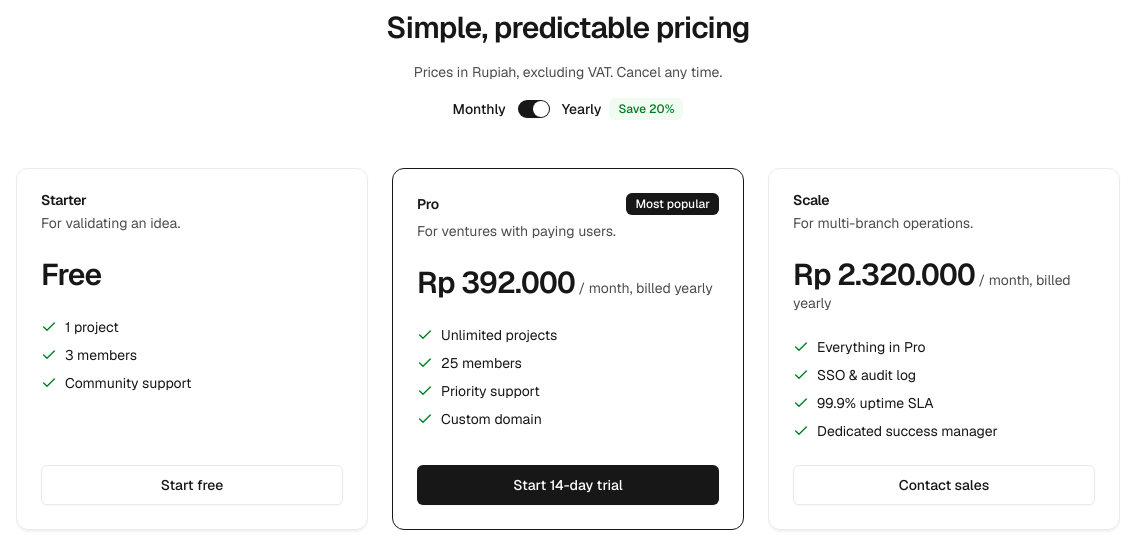
it: Marketing blocks › PricingSection switches between yearly and monthly prices
Check: the text "Rp 392.000" is shown, box left=417, top=263, right=575, bottom=302
Click the switch named "Bill yearly": (534, 109) left=518, top=100, right=550, bottom=118
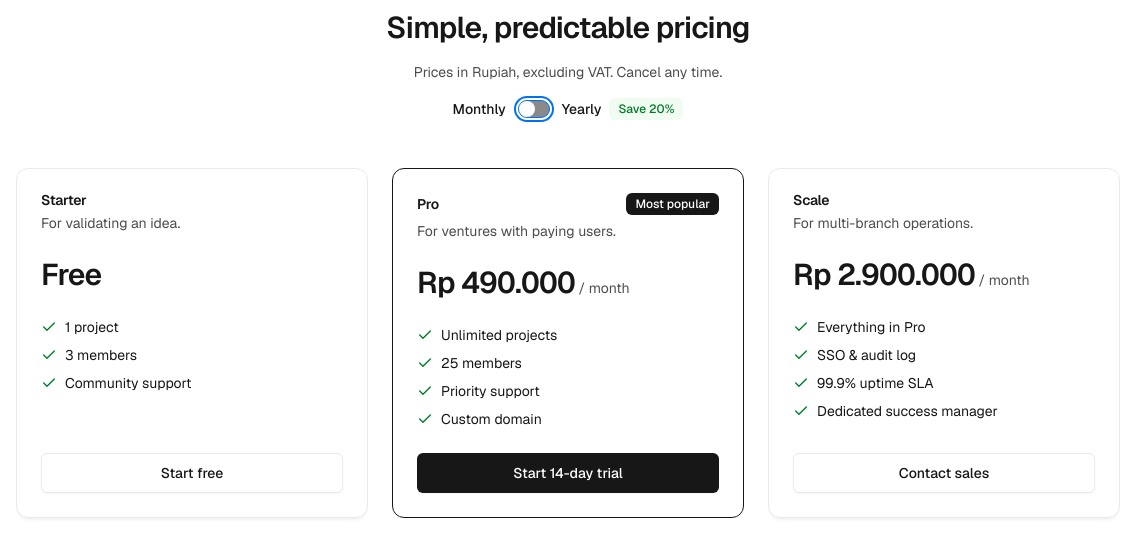
Check: the text "Rp 490.000" is shown, box left=417, top=263, right=575, bottom=302
